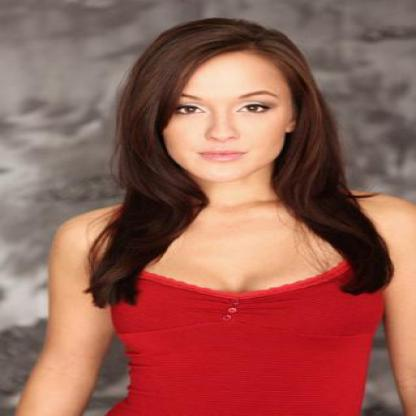long-hair: (108, 185, 361, 223)
